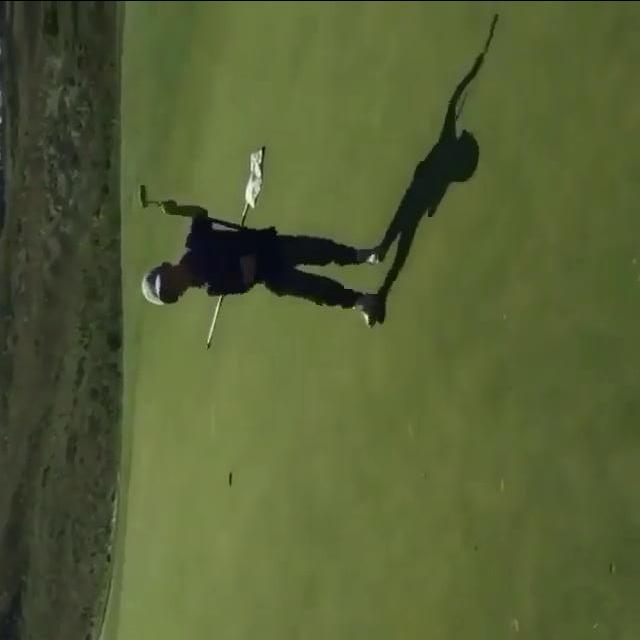golf club-handle: (137, 180, 269, 234)
golf club-head: (139, 183, 148, 208)
